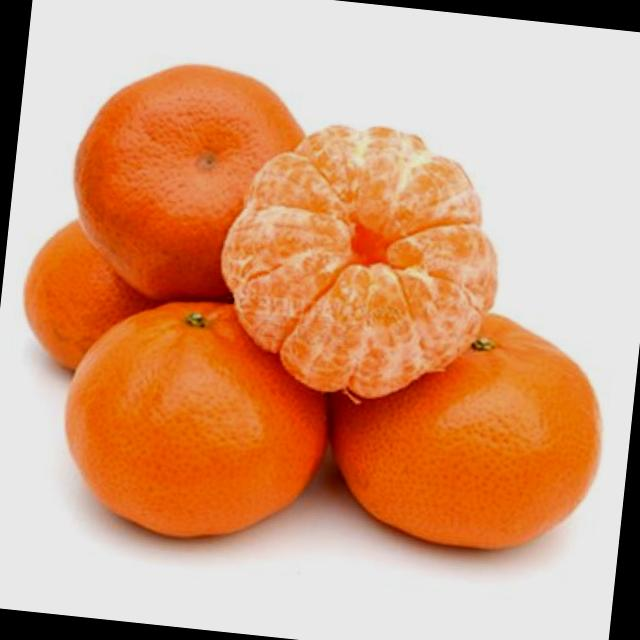orange: (315, 294, 617, 564), (53, 284, 341, 548), (56, 50, 331, 324), (15, 204, 258, 388)
